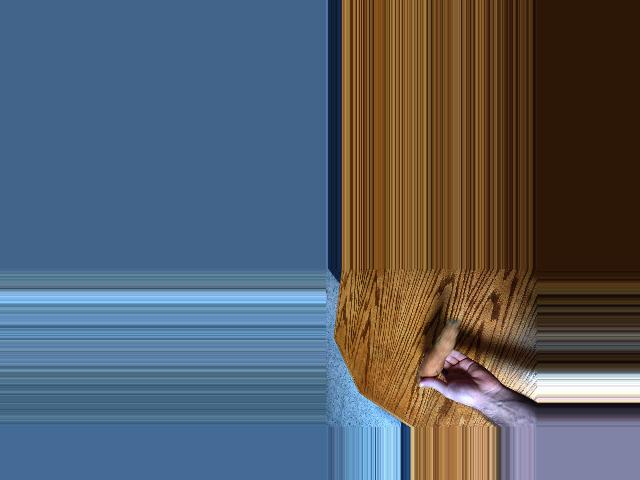sweet_potato: (416, 316, 465, 390)
